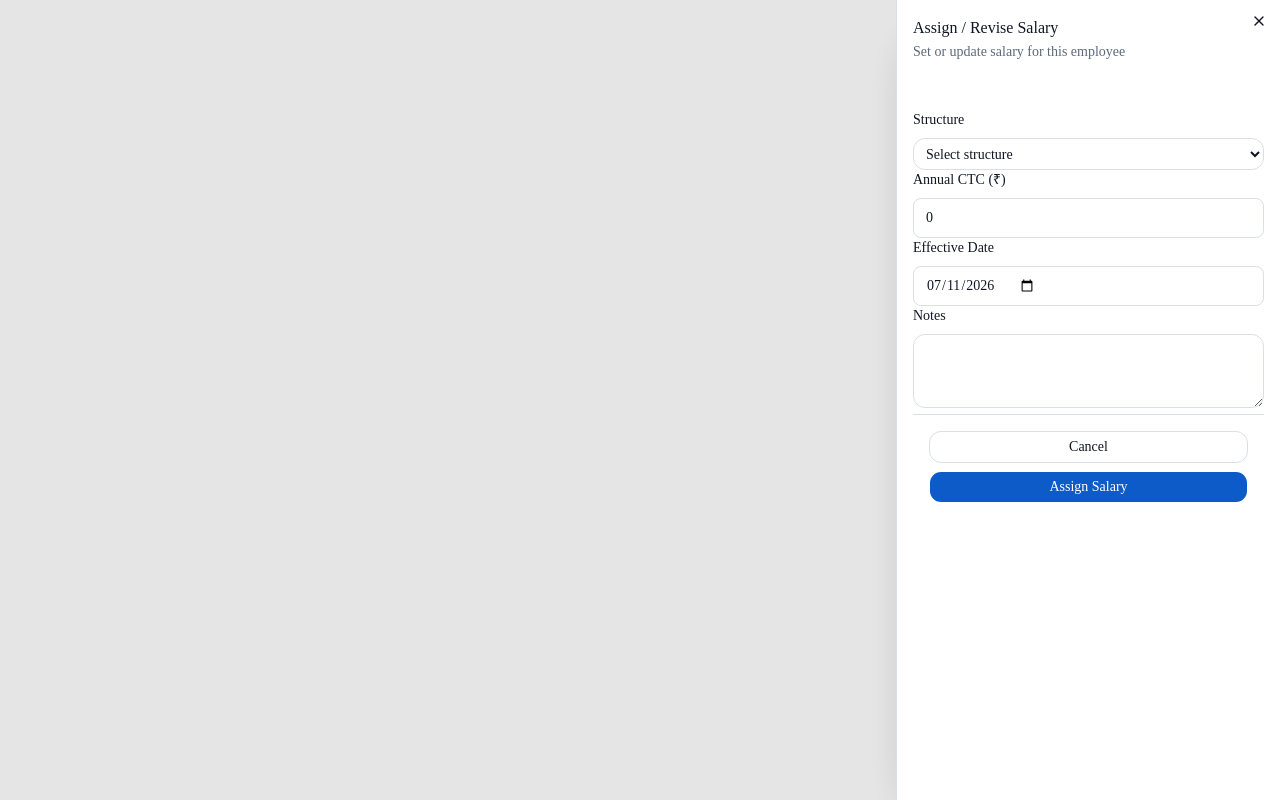
Test: SalaryRevisionDrawer — CTC input validation › shows monthly CTC preview below the input
Replace the text in the number field showing "0" with "600000" at (1088, 218), box [913,198,1264,238]
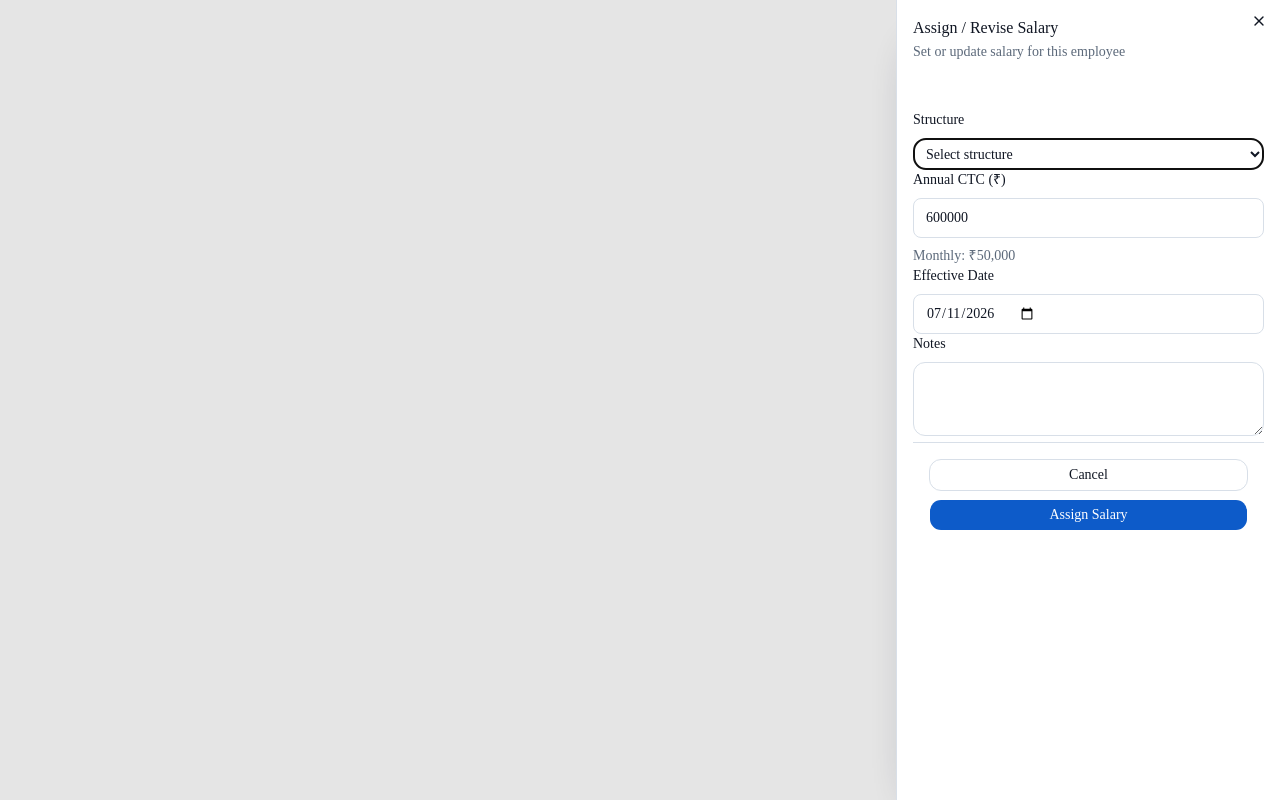
Expected: the text "Monthly: ₹50,000" is shown, [913,248,1015,263]
